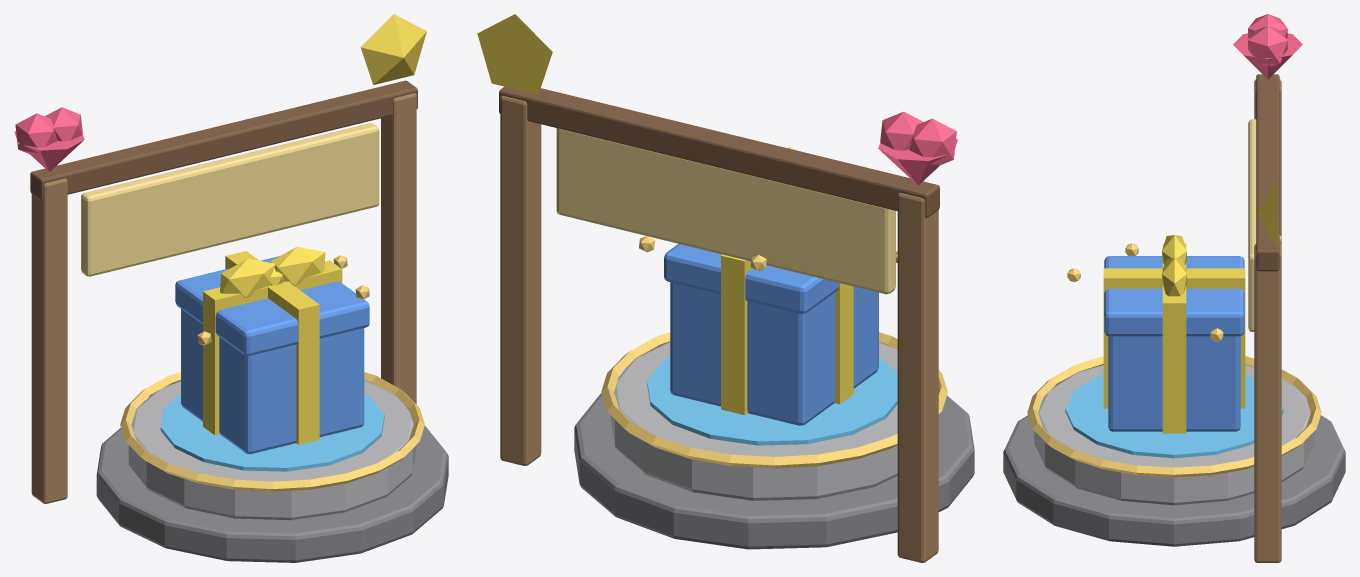
File: puesto_diario.glb
The picture shows the model from 3 angles, left to right: view 1: azimuth 30°, elevation 25°; view 2: azimuth 150°, elevation 25°; view 3: azimuth 270°, elevation 25°; orthographic projection. The views are drawn at different scales.
Visible parts, largest first — view 1: Base, Regalo, Cartel; view 2: Base, Regalo, Cartel; view 3: Base, Regalo, Cartel.
Boxes of the visible parts, x1=… form: Base: x1=14, y1=14, x2=448, y2=562; Regalo: x1=175, y1=246, x2=369, y2=454; Cartel: x1=81, y1=123, x2=379, y2=276; Base: x1=477, y1=14, x2=974, y2=562; Regalo: x1=639, y1=147, x2=897, y2=425; Cartel: x1=556, y1=128, x2=895, y2=294; Base: x1=1003, y1=14, x2=1345, y2=562; Regalo: x1=1067, y1=235, x2=1281, y2=433; Cartel: x1=1248, y1=119, x2=1256, y2=331.
Size of the model in its own units: 5.93 by 5.4 by 4.4.
1 material, 1 textured.
